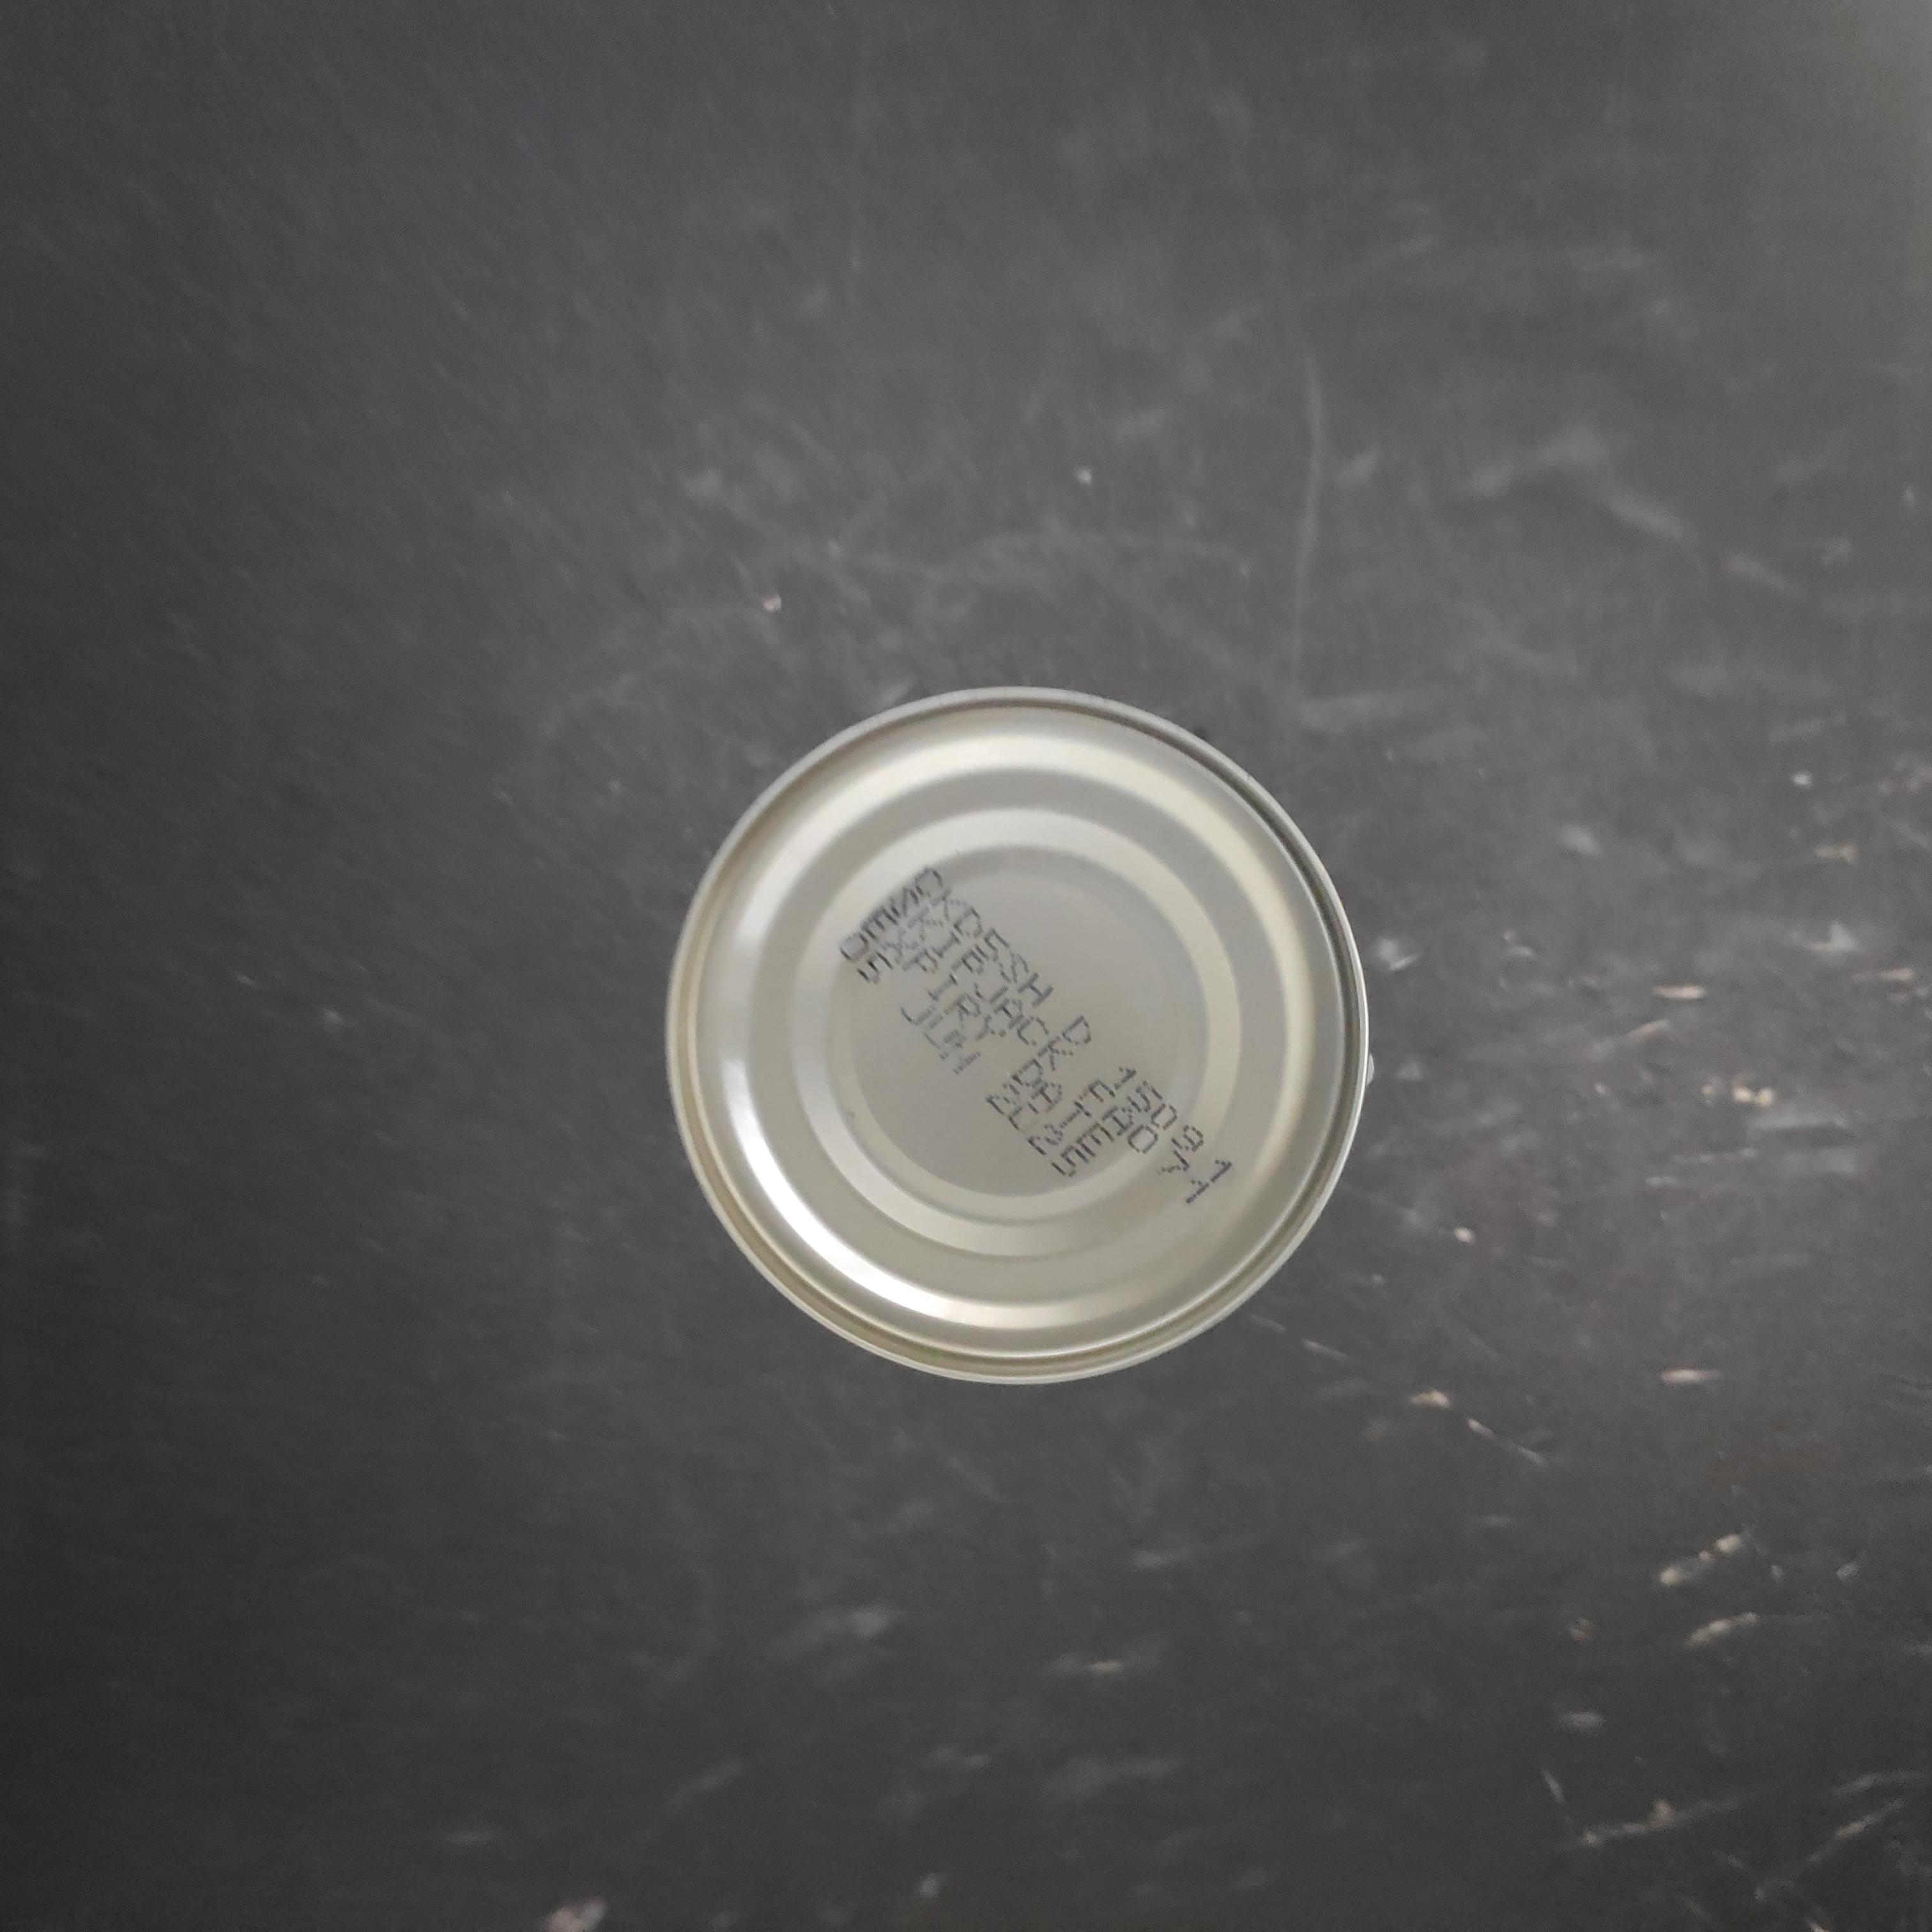No defect: (547, 538, 1272, 1260)
